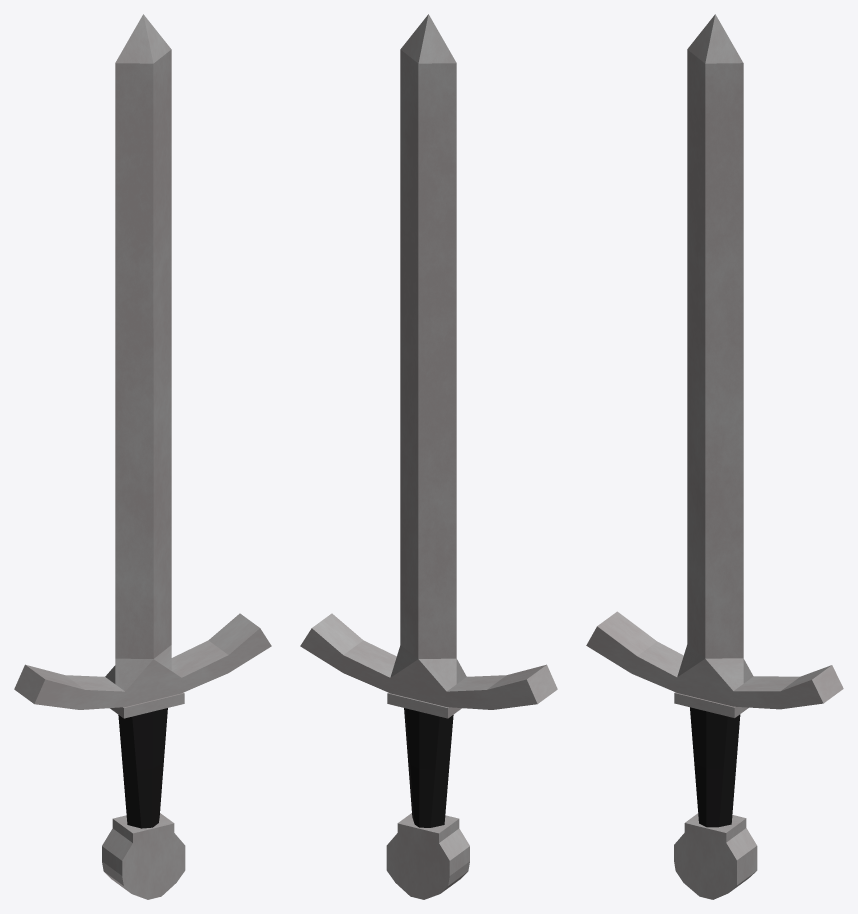
The model's file is IronSword.fbx.
3 views of the same model, side by side, from view 1: azimuth 30°, elevation 25°; view 2: azimuth 150°, elevation 25°; view 3: azimuth 330°, elevation 25° (orthographic).
Visible parts, largest first — view 1: IronSword; view 2: IronSword; view 3: IronSword.
Boxes of the visible parts, x1,y1,x2,y2 form: IronSword: (14,14,271,899); IronSword: (300,14,557,899); IronSword: (586,14,843,899).
Size of the model in its own units: 326 by 1149 by 51.62.
